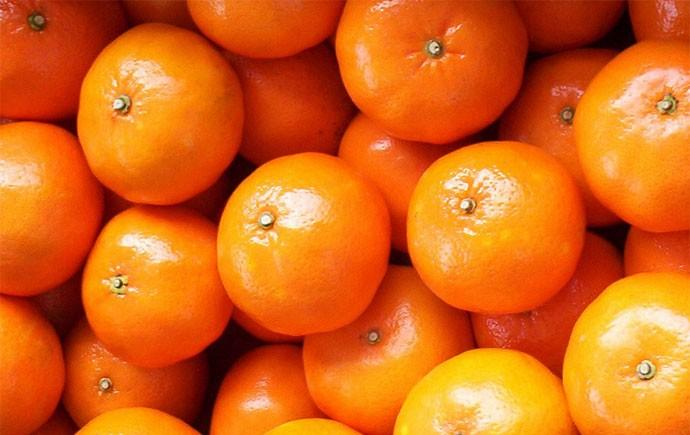cam: (398, 135, 589, 318), (76, 27, 233, 209), (227, 156, 387, 333), (329, 0, 524, 128)
